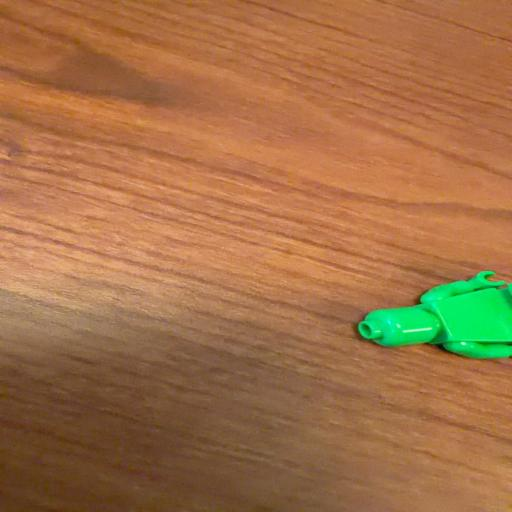UnoQ-minifig-detector: (354, 268, 512, 366)
